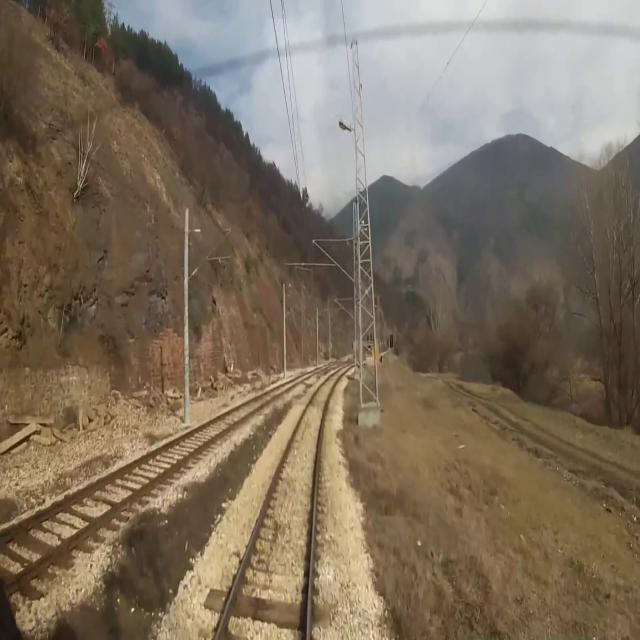rail-track: (0, 392, 275, 580), (220, 375, 337, 639)
